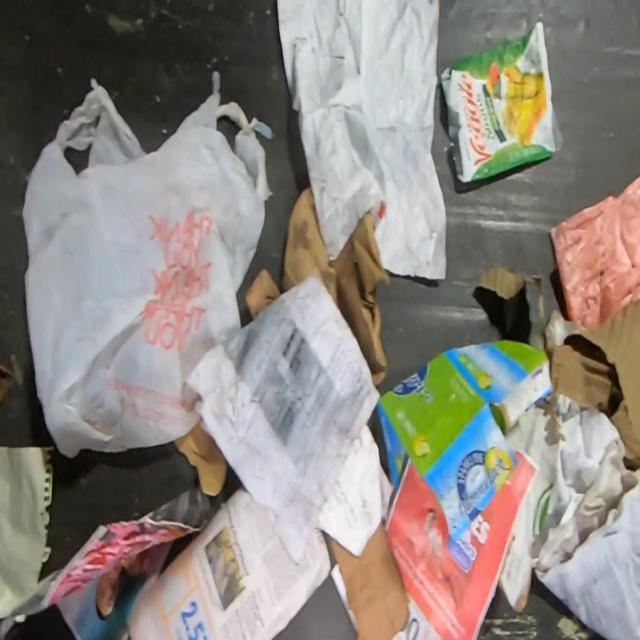cardboard: (377, 341, 552, 544), (475, 265, 640, 463), (245, 184, 388, 384), (329, 519, 409, 639)
soft_plastic: (21, 70, 272, 460), (440, 19, 563, 184), (550, 176, 640, 331)
